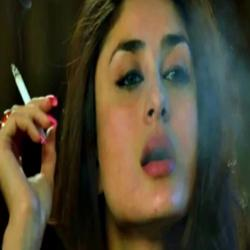smoking: (0, 60, 59, 232)
